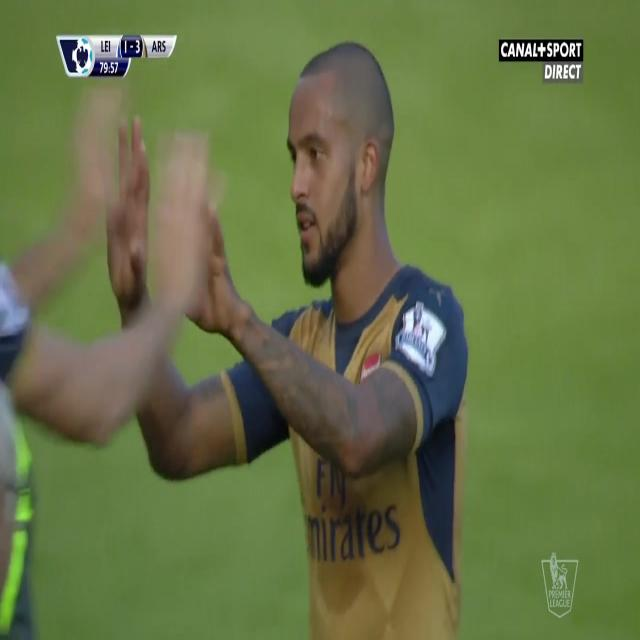Player: (101, 32, 477, 638)
